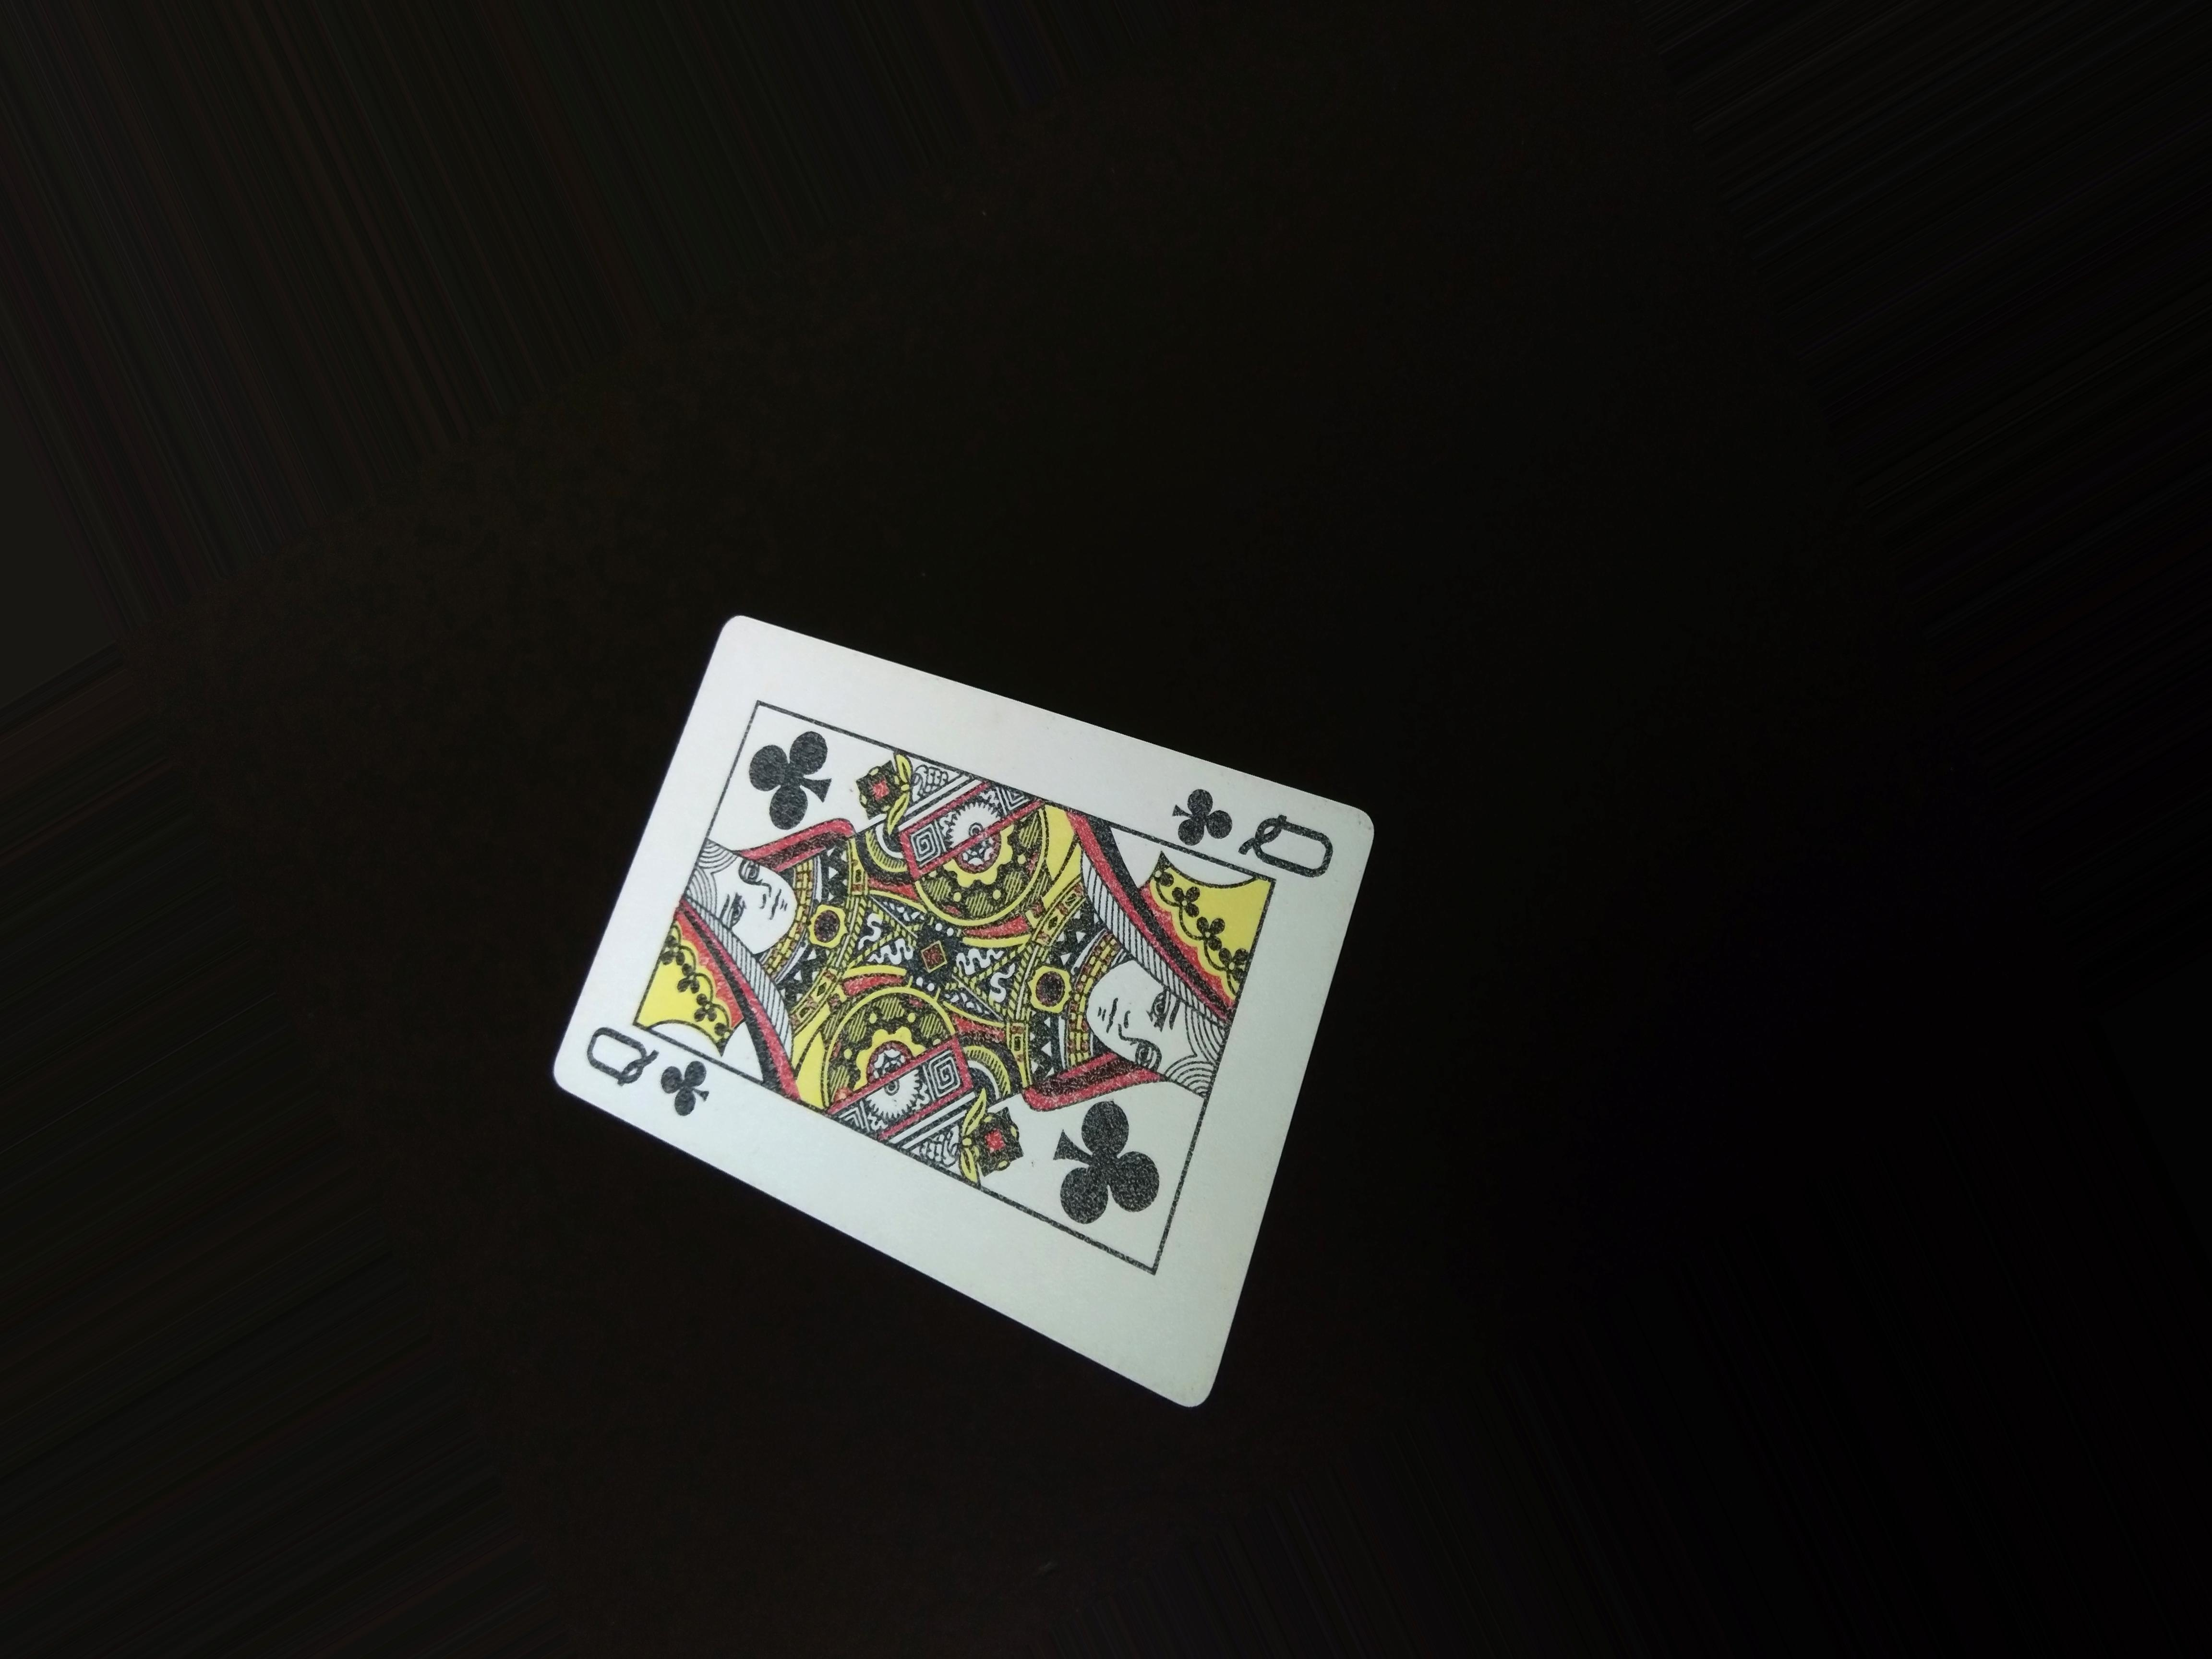QC: (1157, 772, 1348, 884)
